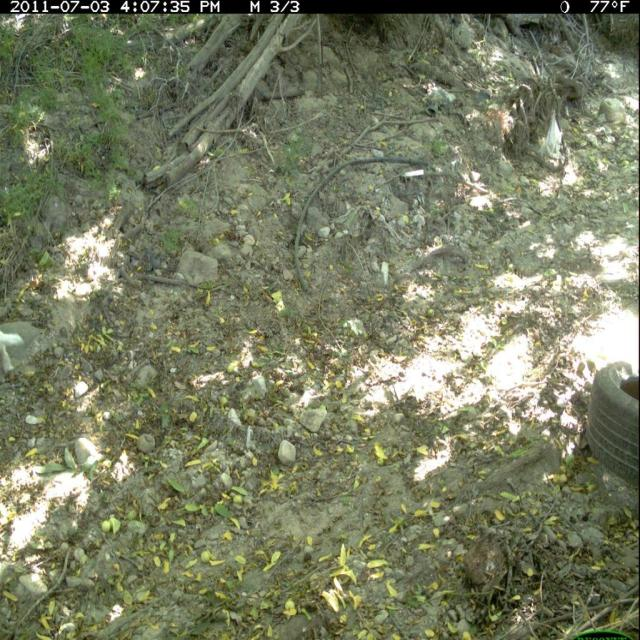dog: (1, 324, 27, 381)
